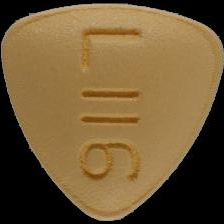16714-331: (0, 0, 224, 224)
